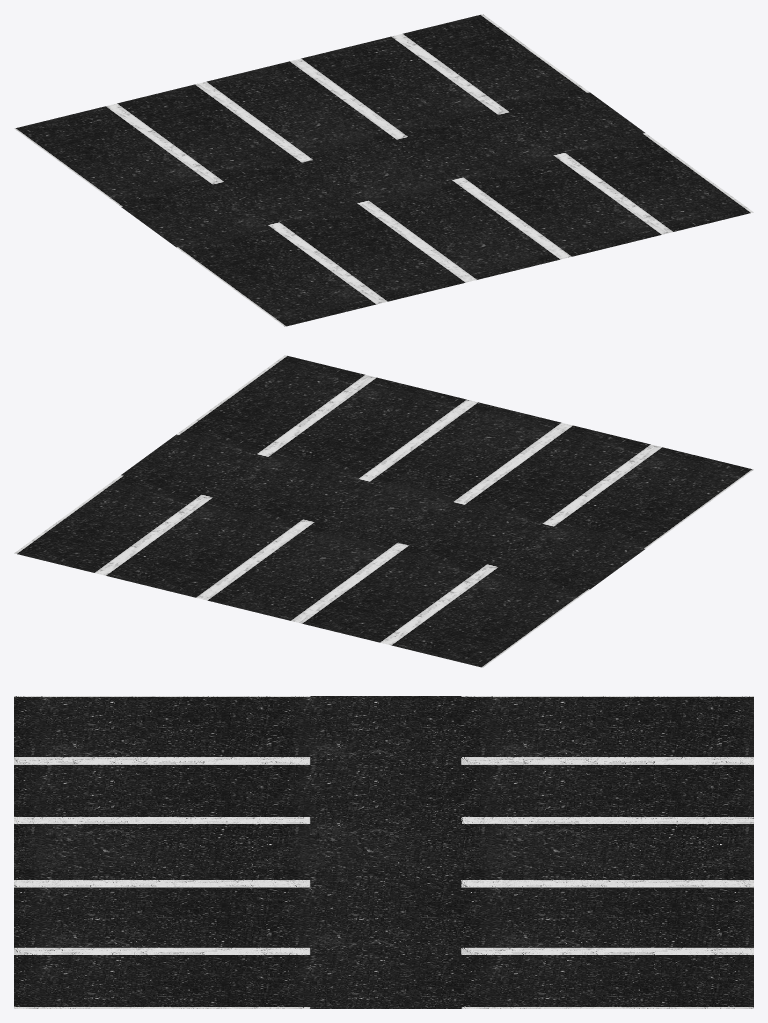
File: parkingslot.obj
3 renders of one model, top to bottom at view 1: azimuth 30°, elevation 25°; view 2: azimuth 150°, elevation 25°; view 3: azimuth 270°, elevation 25°, orthographic. The views are drawn at different scales.
Parts seen in each view (by area): view 1: parking_slot_piso_Cube.002; view 2: parking_slot_piso_Cube.002; view 3: parking_slot_piso_Cube.002.
Boxes of the visible parts, box(x1,y1,x2,y2) form: parking_slot_piso_Cube.002: box(14, 14, 753, 326); parking_slot_piso_Cube.002: box(14, 355, 753, 667); parking_slot_piso_Cube.002: box(14, 696, 753, 1008).
Bounding box in the file's own units: 0.75 × 0 × 0.75.
